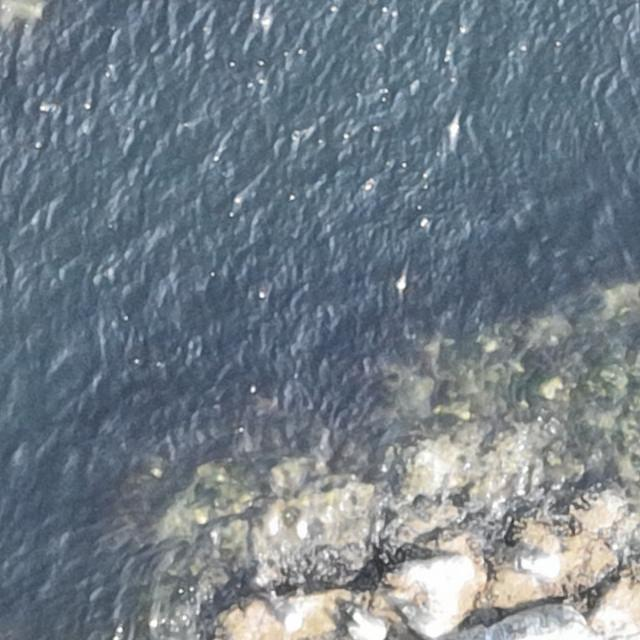umineko: (518, 553, 558, 584), (269, 596, 300, 630)
